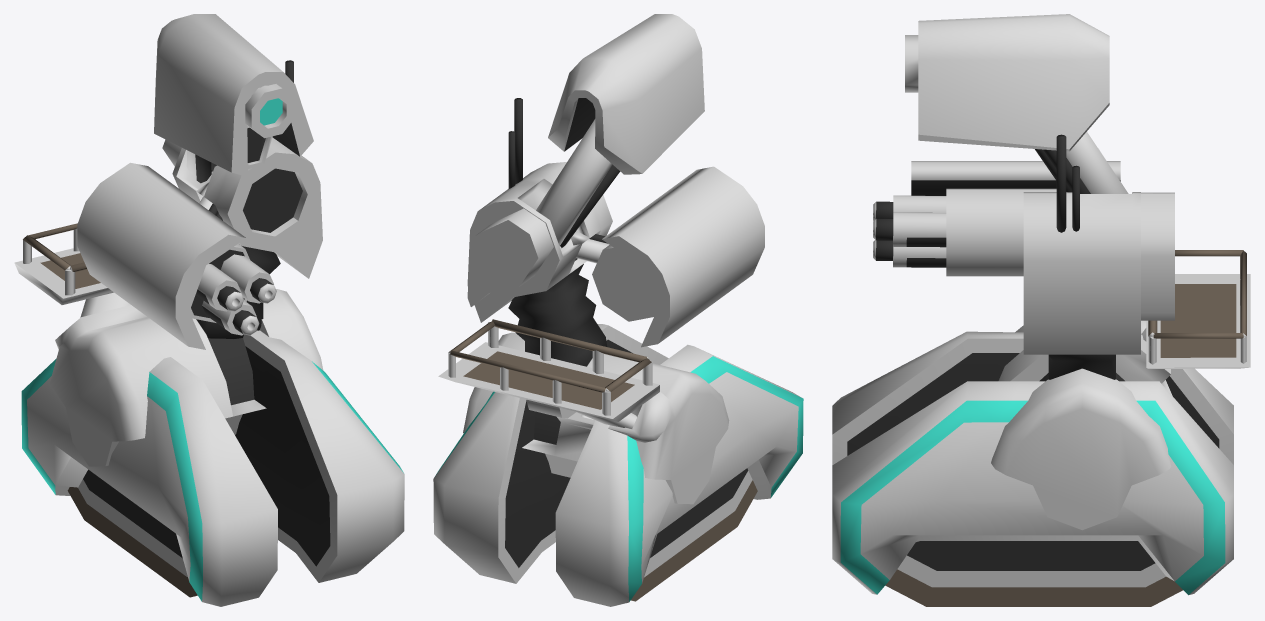
Rendered from Robot Placeholder.fbx.
The picture shows the model from 3 angles, left to right: view 1: azimuth 30°, elevation 25°; view 2: azimuth 150°, elevation 25°; view 3: azimuth 270°, elevation 25°; orthographic projection. The views are drawn at different scales.
Visible parts, largest first — view 1: Robot1; view 2: Robot1; view 3: Robot1.
Boxes of the visible parts, left/top/right/bottom form: Robot1: left=14, top=14, right=404, bottom=606; Robot1: left=433, top=14, right=803, bottom=606; Robot1: left=832, top=14, right=1250, bottom=606.
Size of the model in its own units: 0.6309 by 1.47 by 1.01.
